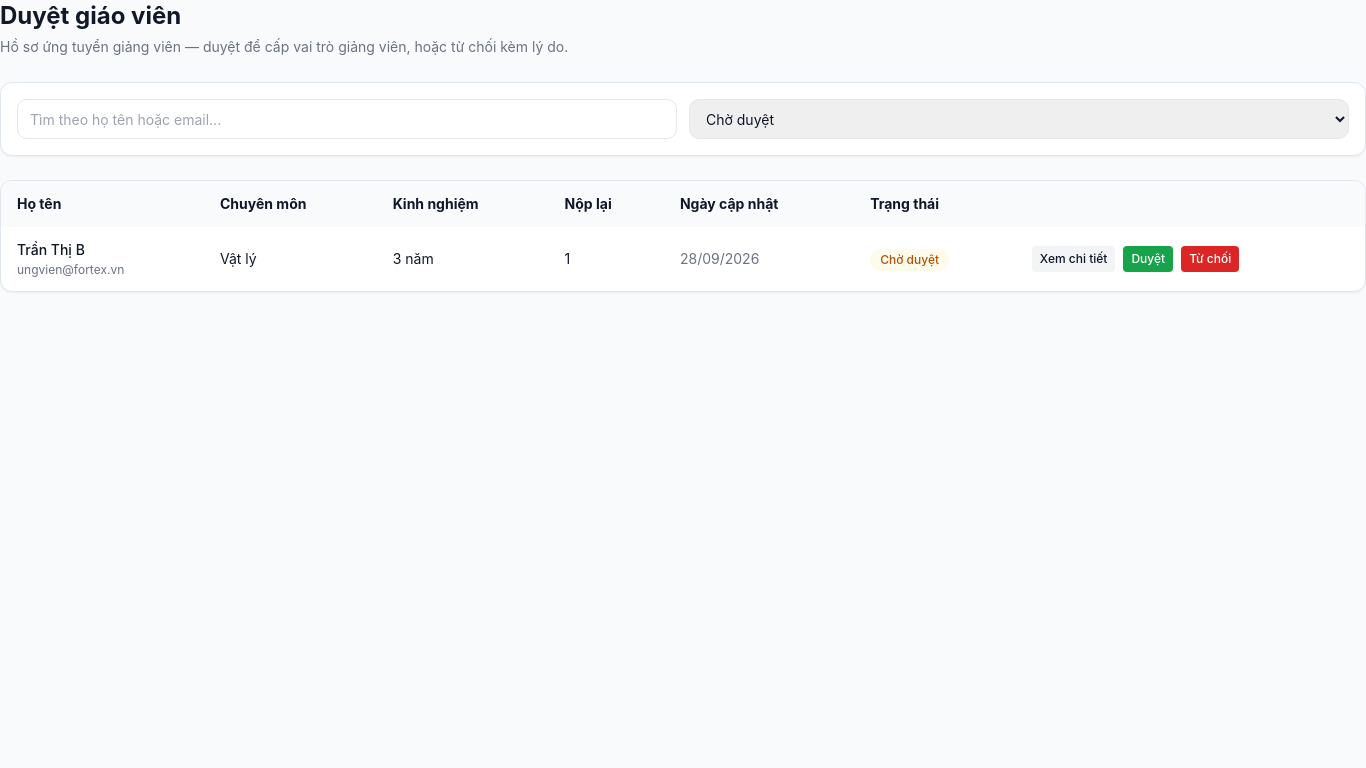
it: /admin/teacher-applications — duyệt giáo viên › xem chi tiết: dialog hiện học vấn + bằng cấp
Click the button "Xem chi tiết".
click(1074, 259)  # box [1032, 246, 1115, 272]
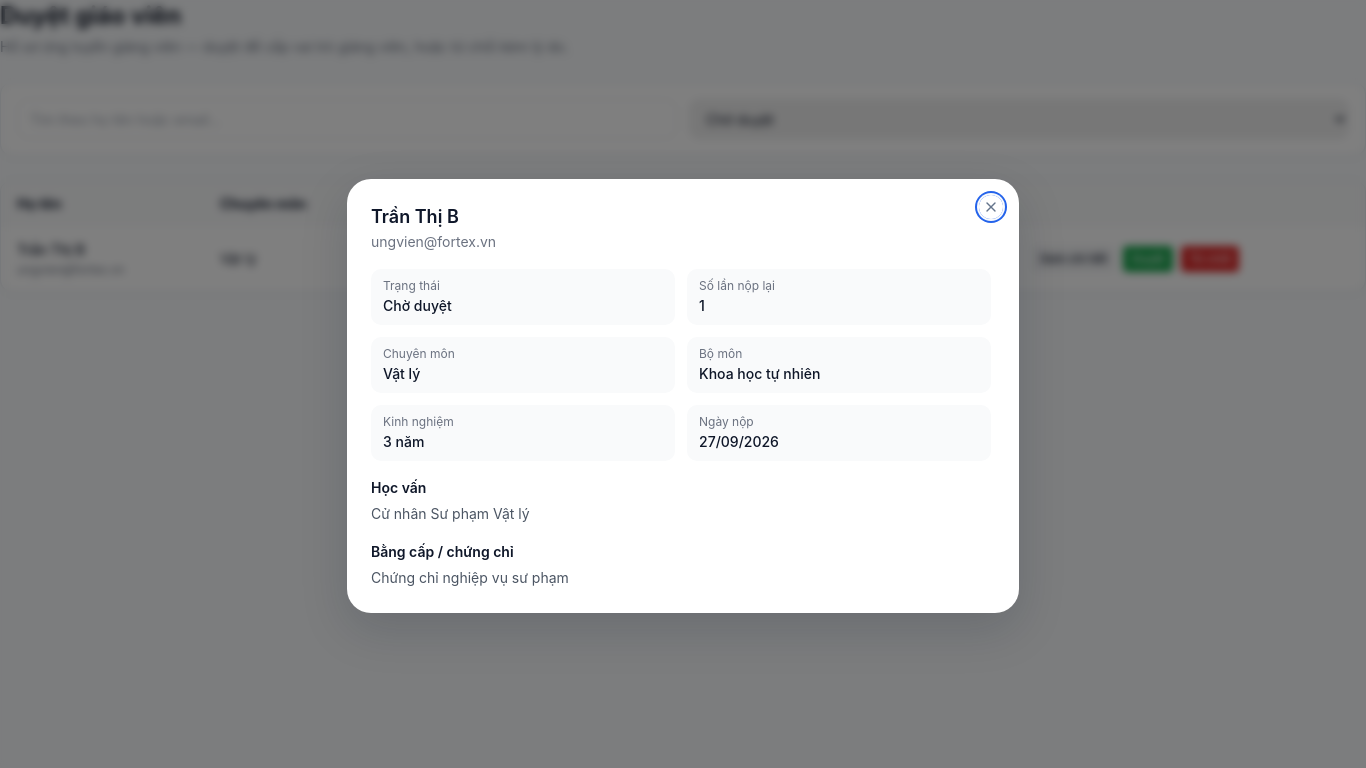
Now the dialog with test id "application-detail-dialog" is shown, box [347, 179, 1019, 613]
Now the text "Cử nhân Sư phạm Vật lý" is shown, box [371, 505, 530, 522]
Now the text "Chứng chỉ nghiệp vụ sư phạm" is shown, box [371, 569, 569, 586]
